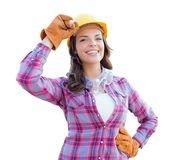helmet: (65, 14, 109, 46)
no_wear: (58, 74, 131, 160)
